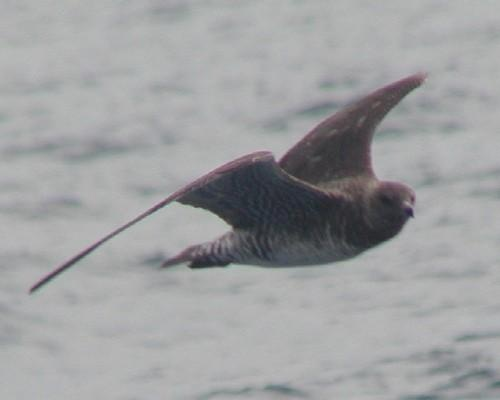bird: (28, 69, 432, 294)
